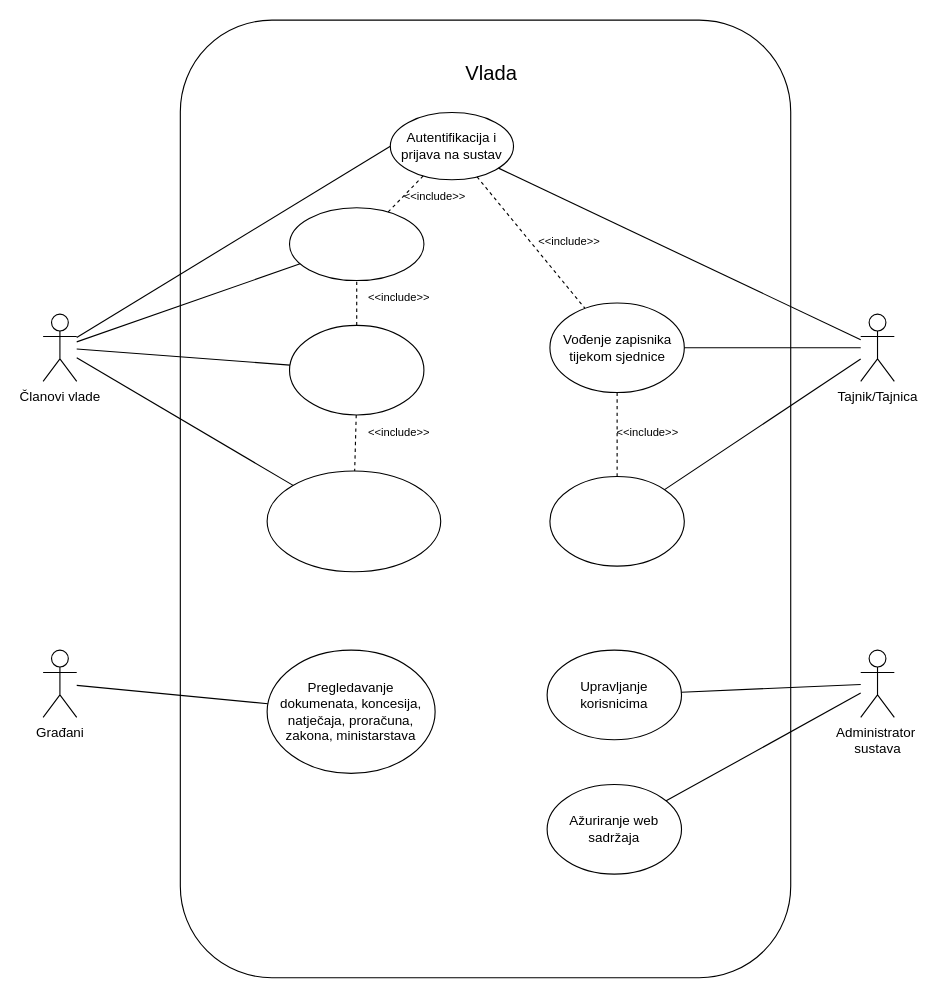
The diagram is 937 pixels wide and 997 high, and some of its shapes have lost their labels. Here are the shapes that lost their labels. From the top down, the box of each, then its label:
(288, 207, 424, 281): Kreiranje agende za sjednicu
(288, 324, 424, 415): Upravljanje agendom za sjednicu
(266, 470, 441, 572): Upravljanje dokumentima, koncesijama, natječajima, proračunom, zakonima
(549, 475, 684, 566): Arhiviranje zapisnika
